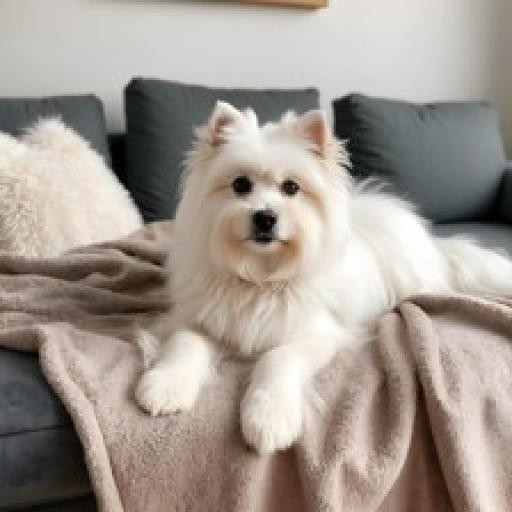dog: (128, 97, 512, 457)
